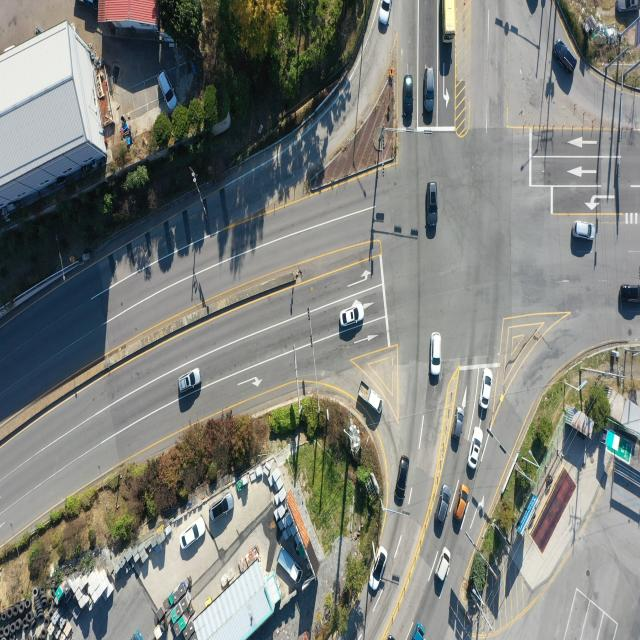car: (551, 38, 577, 76), (183, 522, 208, 554), (160, 70, 178, 112), (372, 548, 388, 593), (394, 455, 408, 506), (438, 484, 454, 526), (210, 496, 232, 524), (454, 484, 470, 522), (468, 426, 482, 469), (340, 304, 365, 328), (424, 62, 436, 111), (450, 407, 463, 452), (429, 334, 441, 381), (427, 180, 438, 231), (179, 370, 201, 394), (482, 369, 494, 410), (438, 548, 452, 583), (406, 74, 416, 121), (572, 222, 595, 241), (620, 284, 640, 302), (379, 0, 392, 25), (616, 0, 639, 13)
small_bus: (443, 0, 456, 42)
small_truck: (276, 546, 302, 586), (358, 380, 384, 417), (414, 620, 426, 640), (79, 0, 98, 12), (132, 628, 144, 640)
